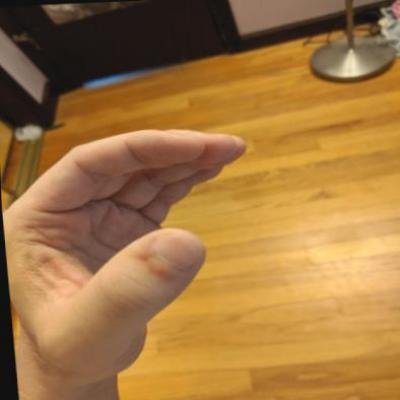hand: (0, 119, 270, 392)
